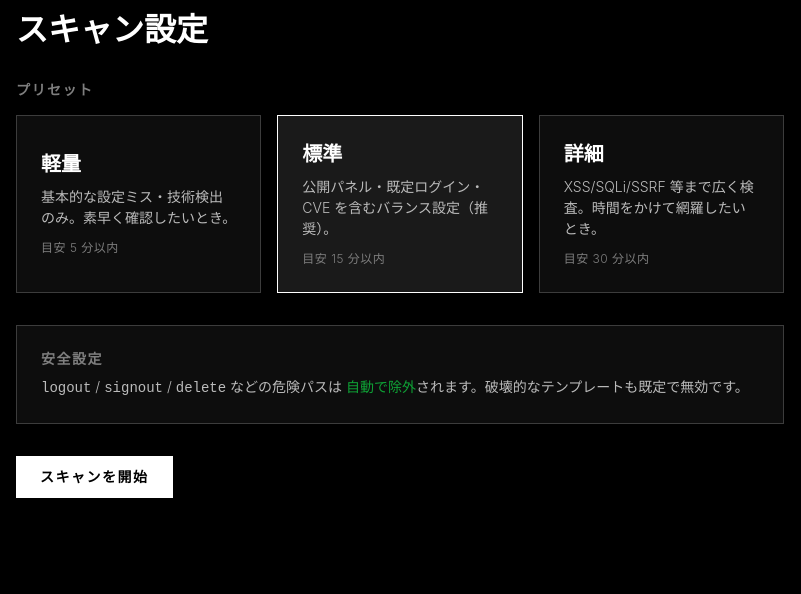
Test: pages/sites/[id]/scan › 開始エラーはメッセージを表示する
Click the button with test id "start-scan". click: coordinates (94, 477)
box: [16,456,172,498]
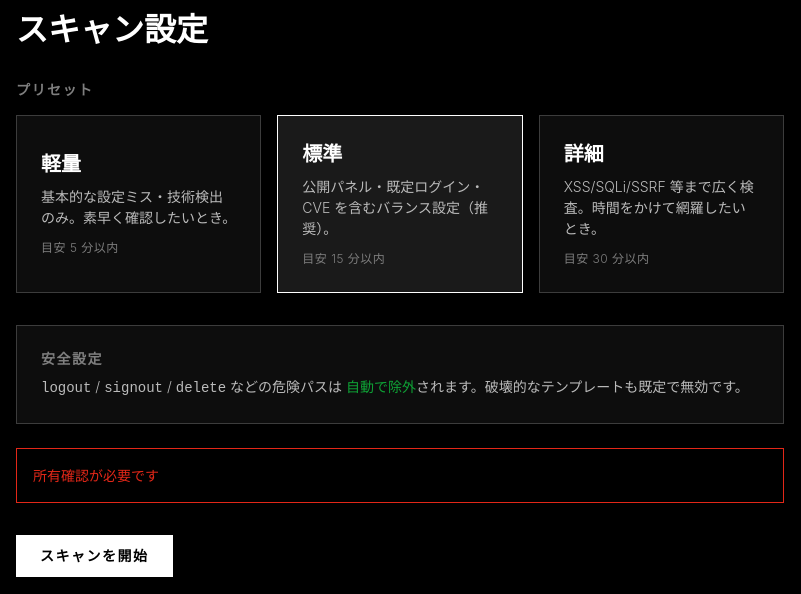
Expected: the text "所有確認が必要です" is shown, [16,448,784,503]
